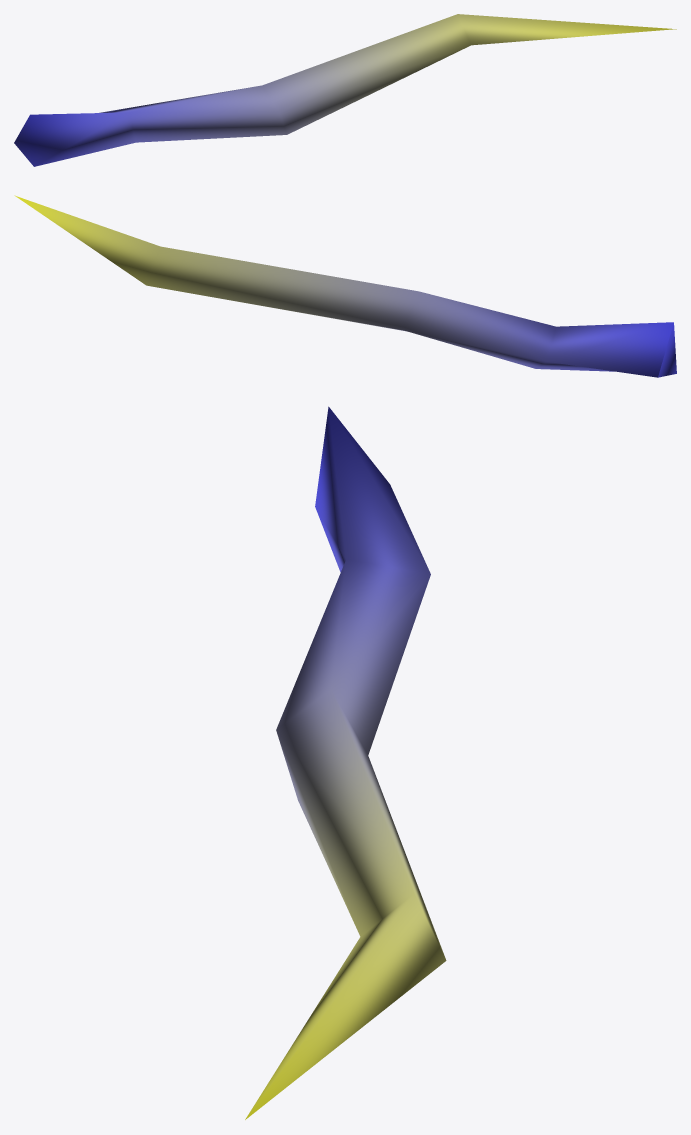
The model's file is BirowStick.fbx.
3 views of the same model, one above another, from view 1: azimuth 30°, elevation 25°; view 2: azimuth 150°, elevation 25°; view 3: azimuth 270°, elevation 25° (orthographic). The views are drawn at different scales.
Visible parts, largest first — view 1: Birow.Stick; view 2: Birow.Stick; view 3: Birow.Stick.
Part boxes in pixels (left/top/right/bottom): Birow.Stick: left=14, top=14, right=676, bottom=166; Birow.Stick: left=14, top=195, right=676, bottom=377; Birow.Stick: left=245, top=406, right=446, bottom=1119.
Size of the model in its own units: 164 by 18.9 by 22.91.
